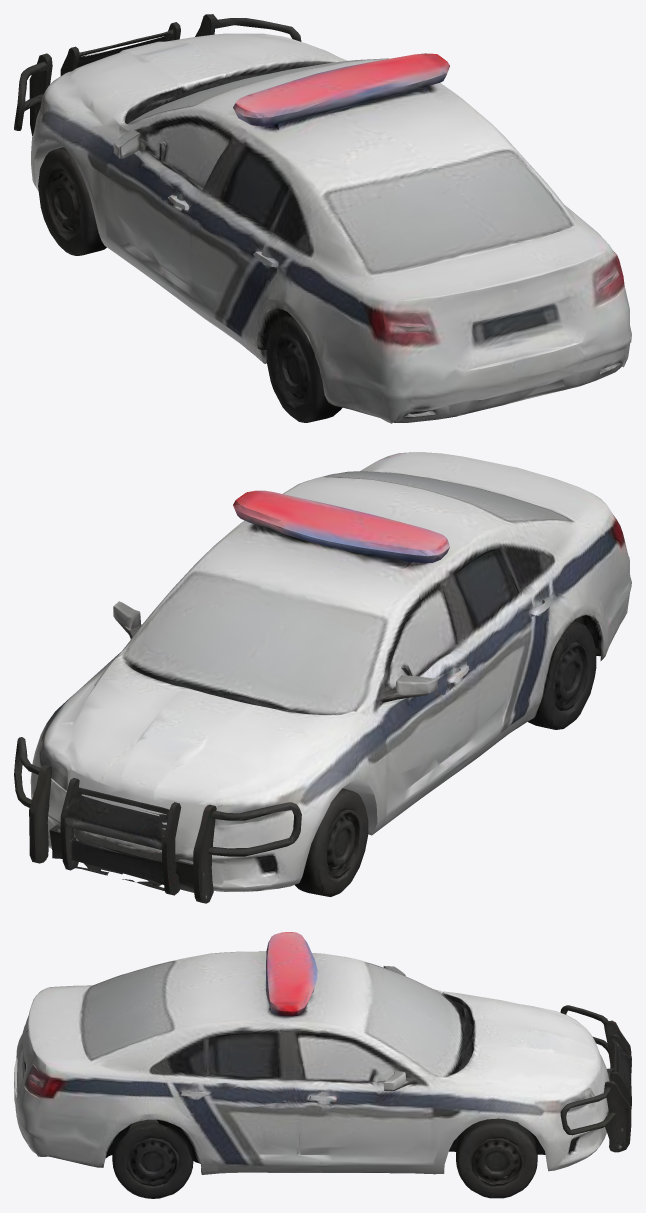
The model's file is viatura_pm.glb.
3 renders of one model, top to bottom at view 1: azimuth 30°, elevation 25°; view 2: azimuth 150°, elevation 25°; view 3: azimuth 270°, elevation 25°, orthographic. The views are drawn at different scales.
Visible parts, largest first — view 1: tripo_node_76085e4f-cdb8-4fc0-a4fd-4b28f1f0d173; view 2: tripo_node_76085e4f-cdb8-4fc0-a4fd-4b28f1f0d173; view 3: tripo_node_76085e4f-cdb8-4fc0-a4fd-4b28f1f0d173.
Boxes of the visible parts, box(x1,y1,x2,y2) form: tripo_node_76085e4f-cdb8-4fc0-a4fd-4b28f1f0d173: box(14, 14, 631, 423); tripo_node_76085e4f-cdb8-4fc0-a4fd-4b28f1f0d173: box(14, 452, 631, 903); tripo_node_76085e4f-cdb8-4fc0-a4fd-4b28f1f0d173: box(14, 932, 631, 1198).
Size of the model in its own units: 0.4484 by 0.3227 by 0.9997.
Materials: 1 (1 with a texture image).
